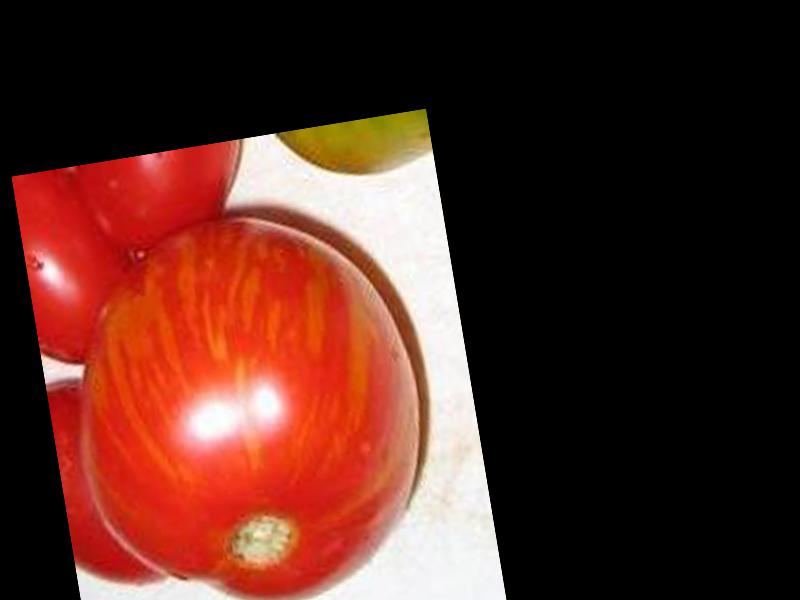Tomato: (45, 189, 448, 600)
